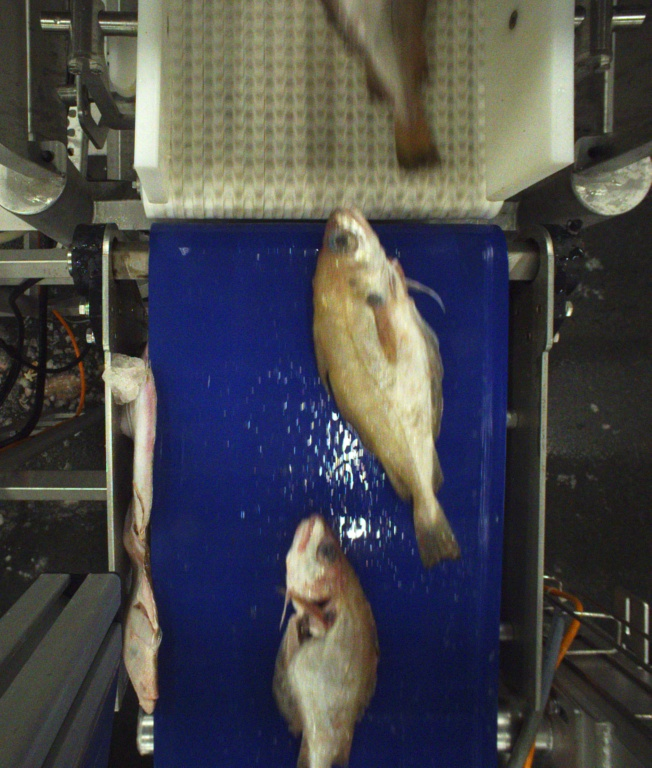BIB: (305, 206, 479, 573)
